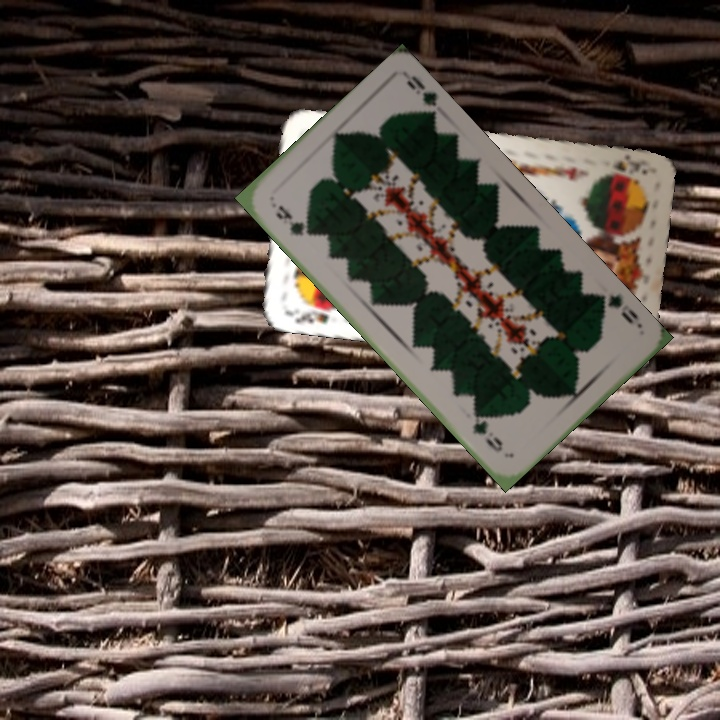G9: (591, 290, 641, 327), (271, 200, 314, 239)
SK: (281, 300, 342, 326), (608, 150, 651, 178)
